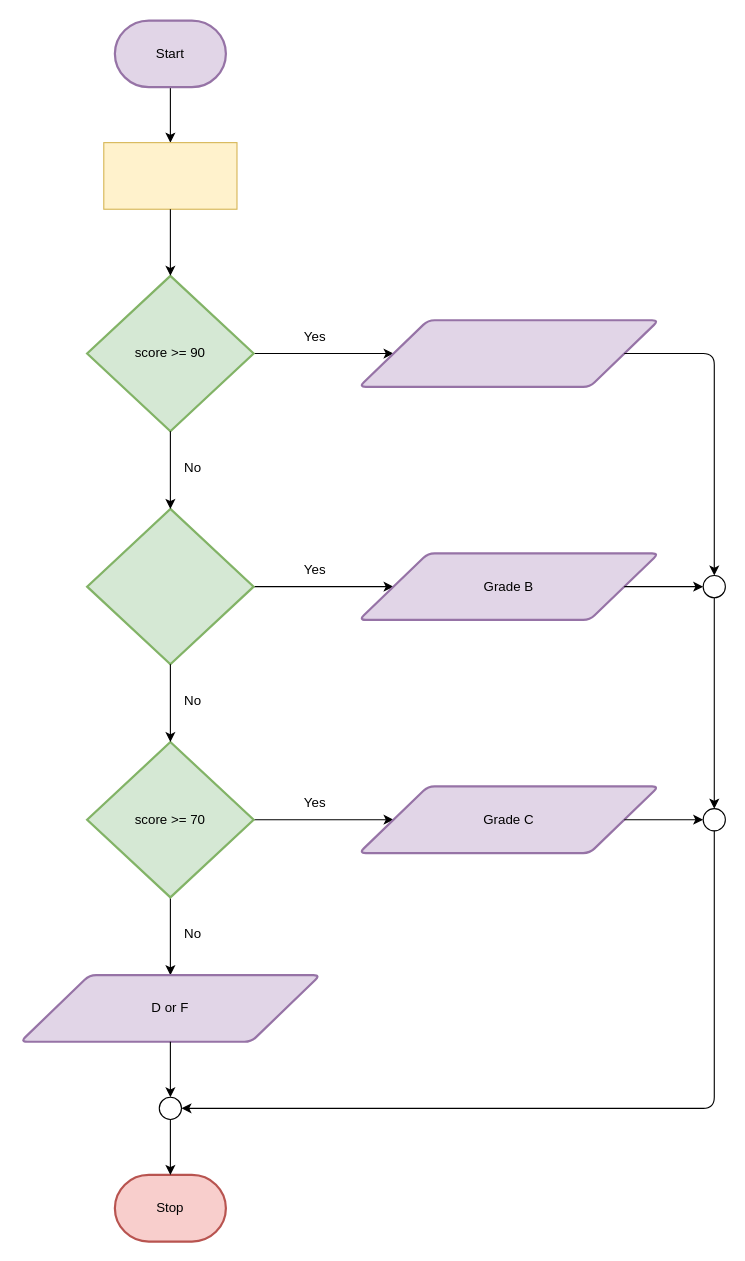
The diagram is 745 pixels wide and 1261 high, and some of its shapes have lost their labels. The centre of each missing label's shape, as x and y in pixels:
Grade A: (x=508, y=353)
score = 80: (x=170, y=175)
score >= 80: (x=169, y=586)
